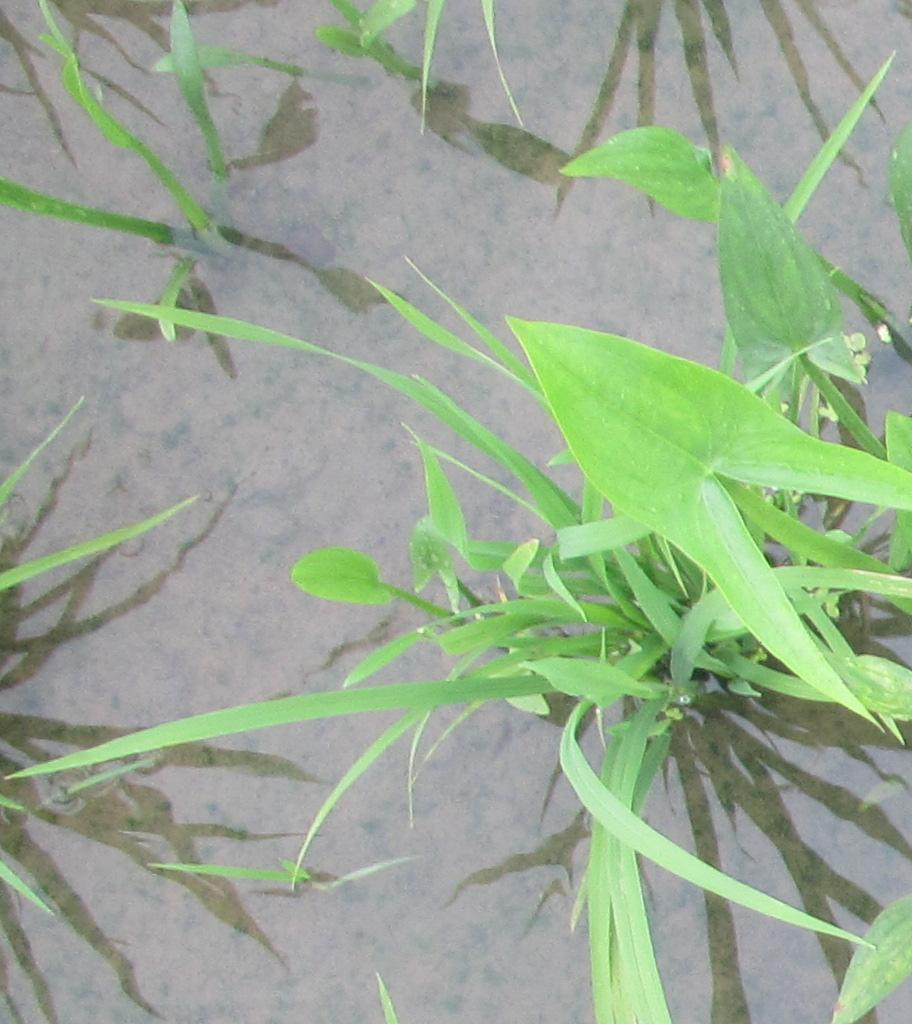Weed: (506, 314, 910, 607), (595, 132, 840, 342)
